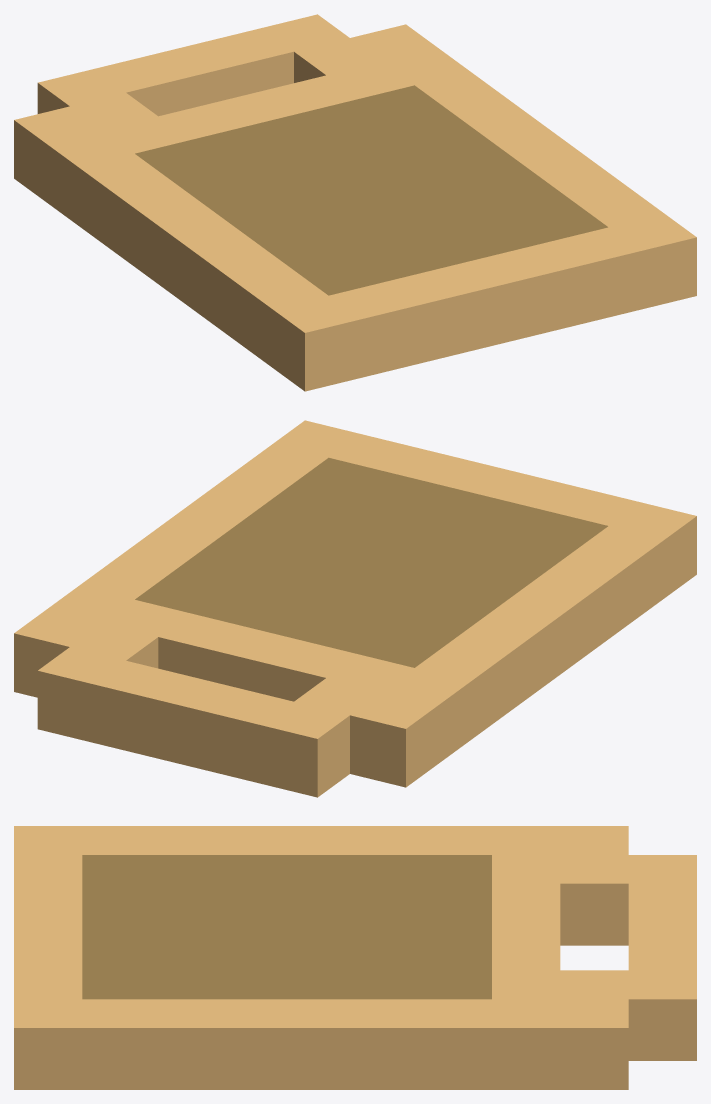
The model's file is breadcutter.obj.
The picture shows the model from 3 angles, top to bottom: view 1: azimuth 30°, elevation 25°; view 2: azimuth 150°, elevation 25°; view 3: azimuth 270°, elevation 25°; orthographic projection. The views are drawn at different scales.
Size of the model in its own units: 0.7 by 0.1 by 1.
1 material, 1 textured.
